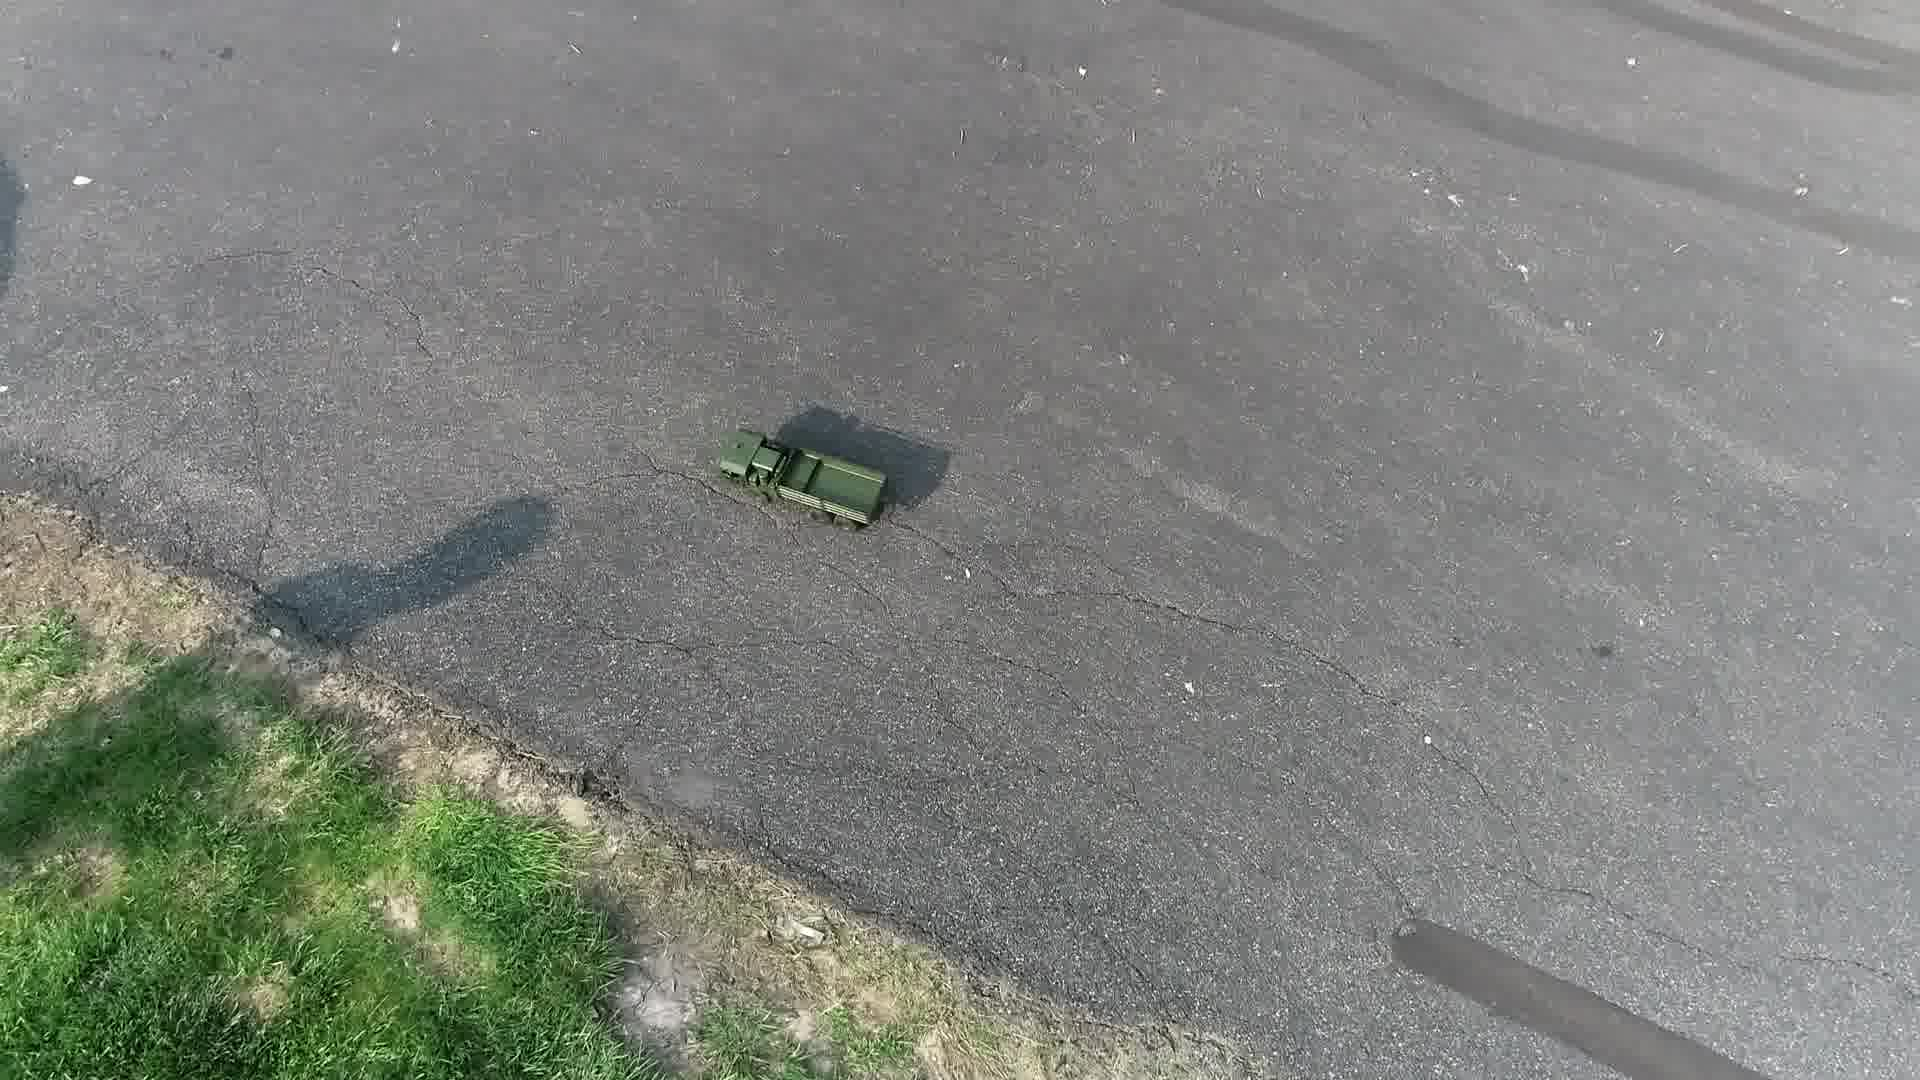transporter9: (702, 429, 901, 531)
